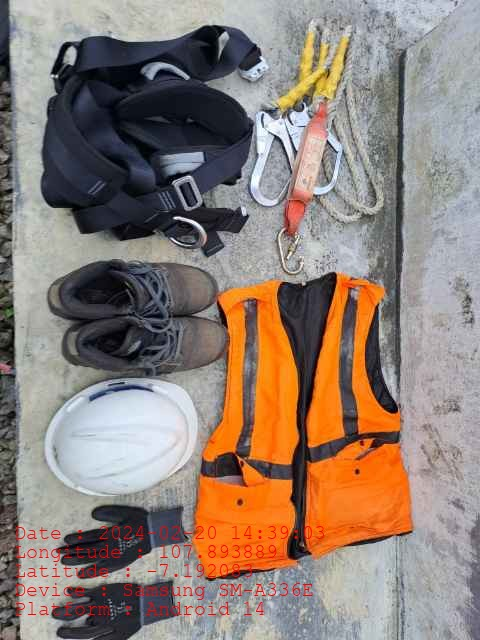HELM: (43, 377, 196, 497)
SEPATU: (45, 260, 228, 375)
TAMBANG_SLING: (250, 15, 381, 250)
